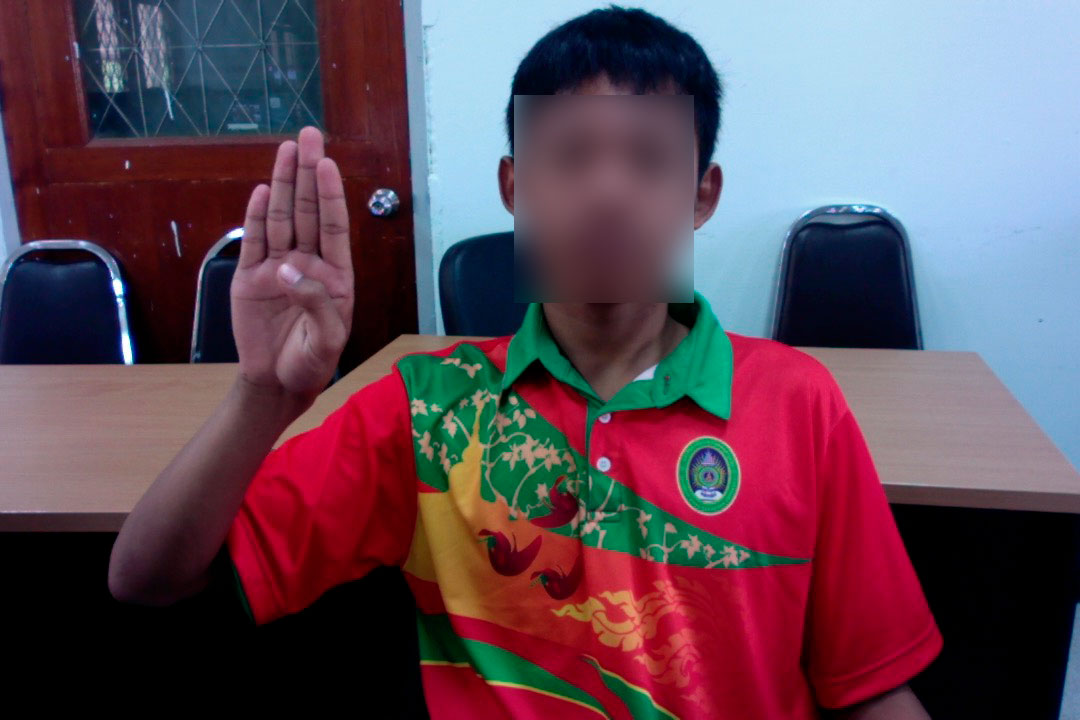bor: (223, 120, 363, 416)
